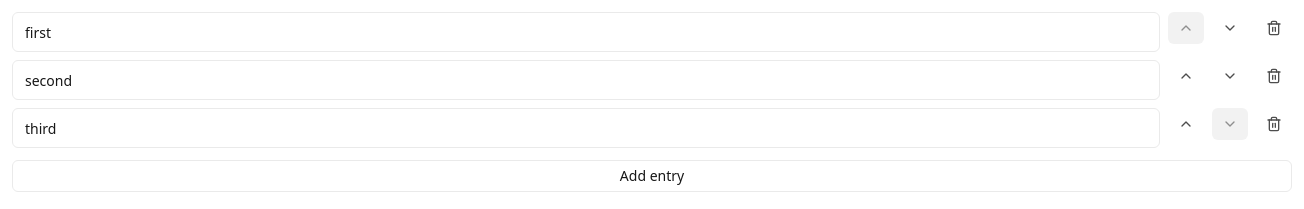
it: StringListControl › reorders entries with move up/down buttons
This screenshot has width=1304, height=209.
// Move first entry down
Click the button named "move entry 1 down" at (1230, 28), box [1212,12,1248,44]
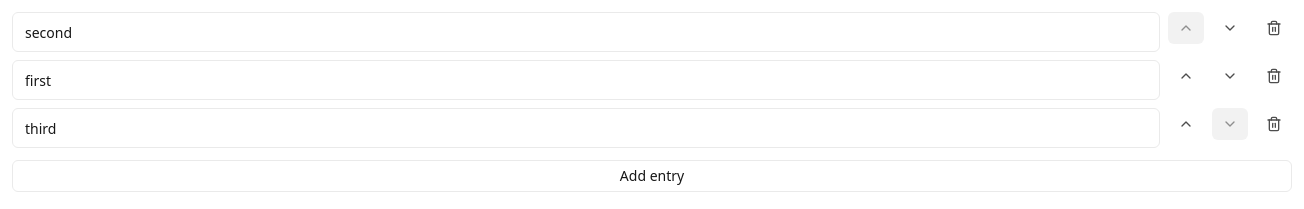
Expected: the field named "Entry 3" holds "third", [12,108,1160,148]
Expected: the field named "Entry 1" holds "second", [12,12,1160,52]
Expected: the field named "Entry 2" holds "first", [12,60,1160,100]
